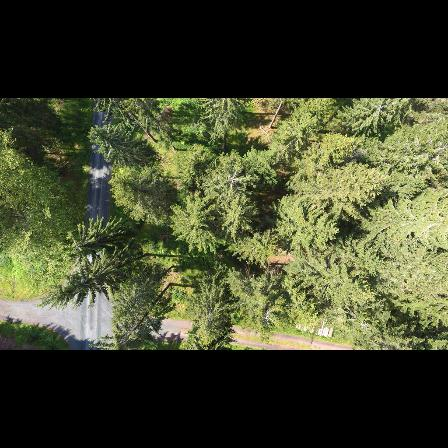Sick: (212, 162, 250, 199)
